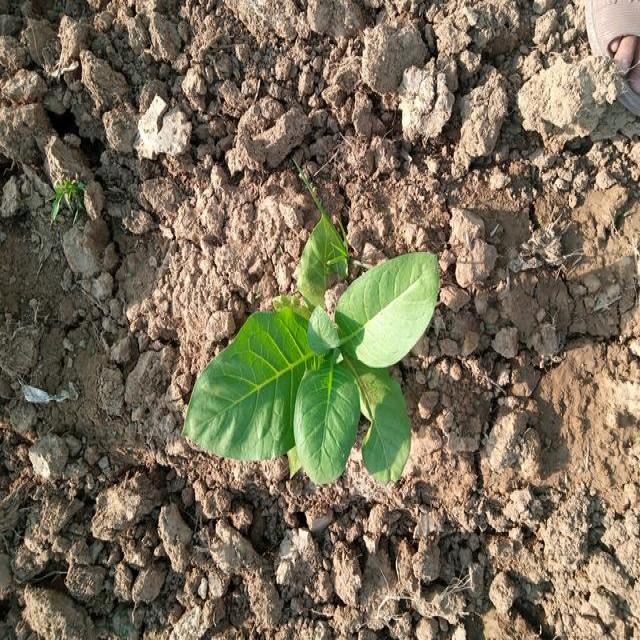crop: (185, 233, 432, 482)
